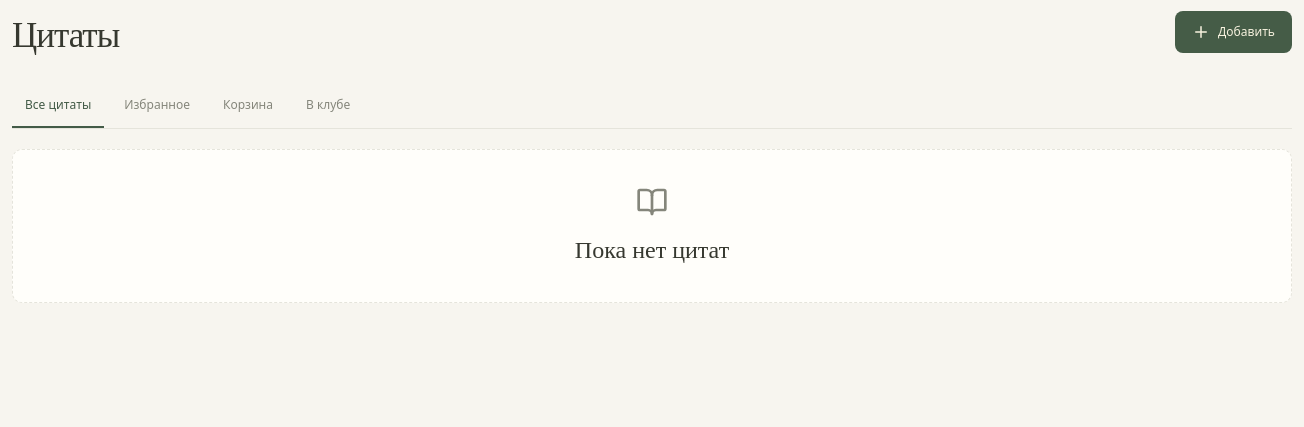
Test case: публичная лента доступна во вкладке цитат клуба
Click the button "В клубе": (328, 106) x1=293 y1=84 x2=363 y2=128
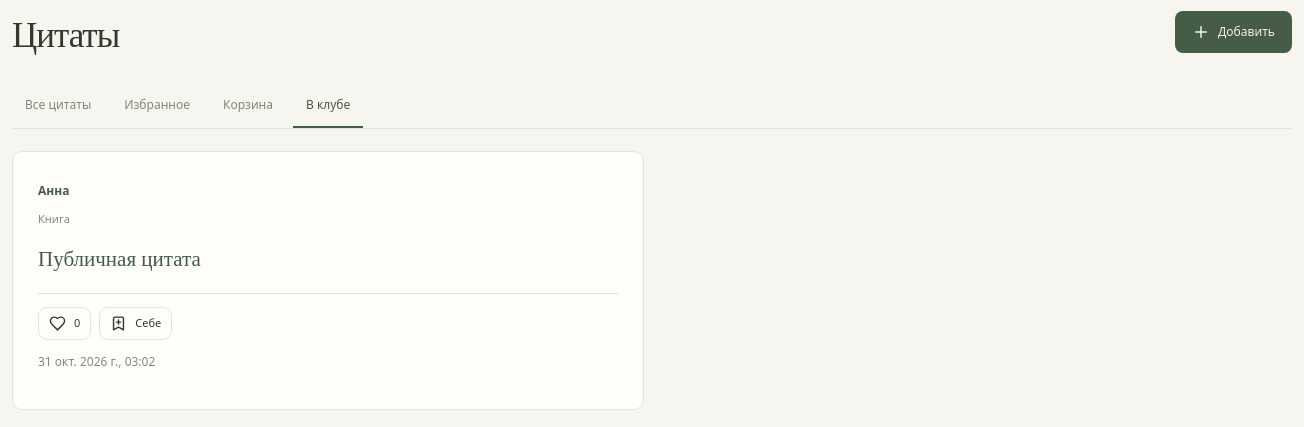
expect the text "Публичная цитата" is shown: met, box x1=38 y1=246 x2=201 y2=270
